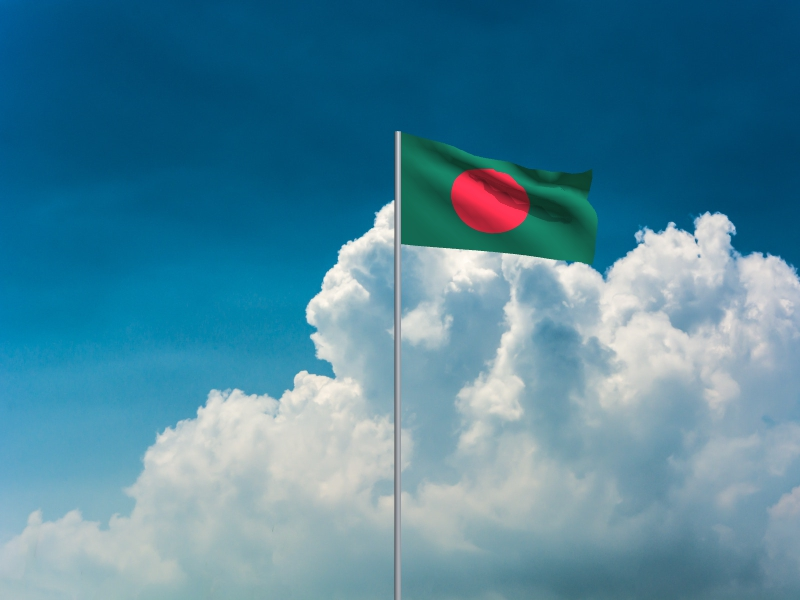bd: (402, 133, 600, 267)
